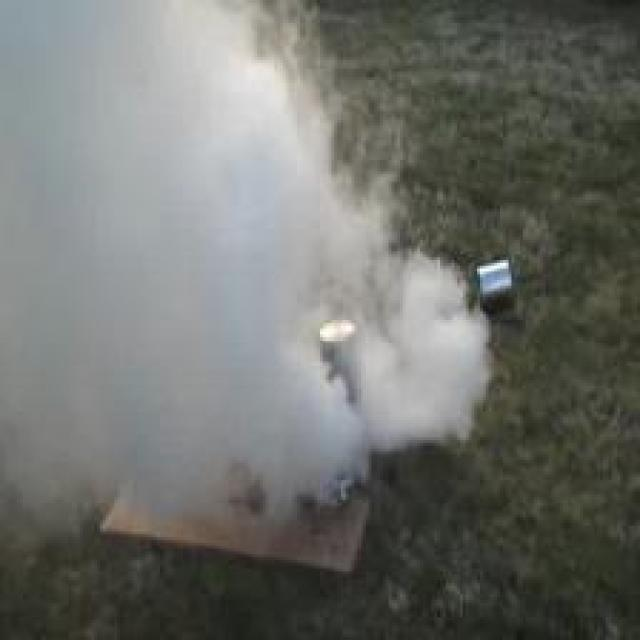Smoke: (0, 0, 494, 540)
